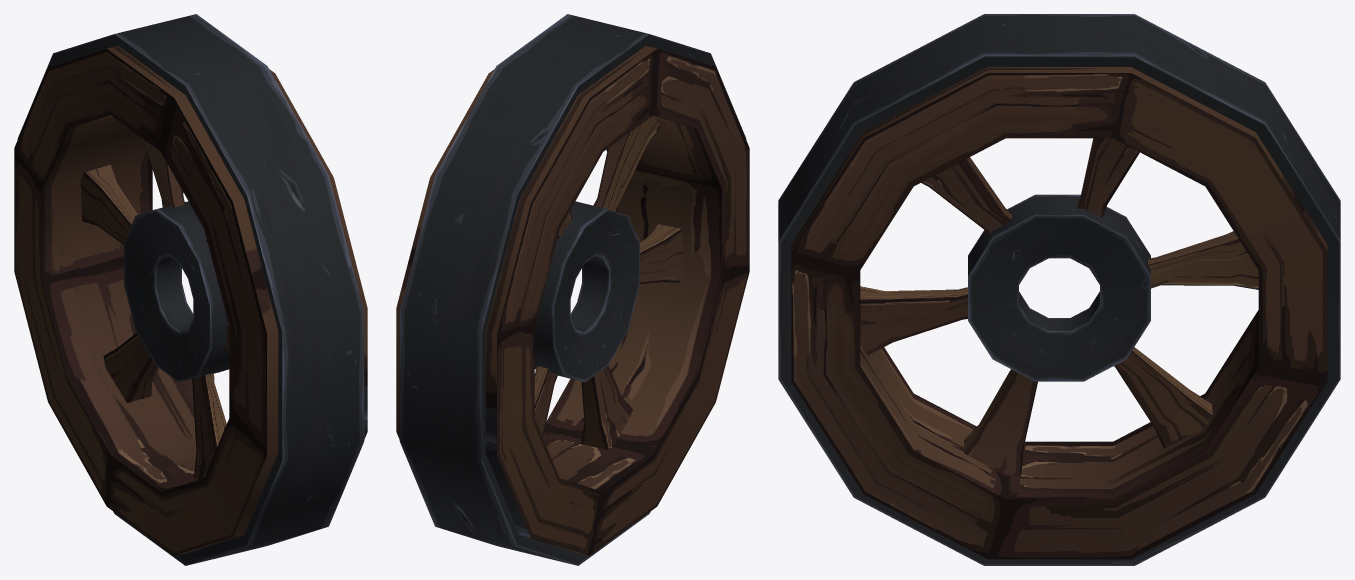
The model's file is SM_PROP_wheel_dungeon_02.fbx.
3 views of the same model, side by side, from view 1: azimuth 30°, elevation 25°; view 2: azimuth 150°, elevation 25°; view 3: azimuth 270°, elevation 25° (orthographic). The views are drawn at different scales.
Parts seen in each view (by area): view 1: SM_PROP_wheel_dungeon_02; view 2: SM_PROP_wheel_dungeon_02; view 3: SM_PROP_wheel_dungeon_02.
Boxes of the visible parts, x1,y1,x2,y2 form: SM_PROP_wheel_dungeon_02: (14,14,367,565); SM_PROP_wheel_dungeon_02: (396,14,749,565); SM_PROP_wheel_dungeon_02: (778,14,1340,565).
Bounding box in the file's own units: 22.56 × 93.46 × 93.46.
